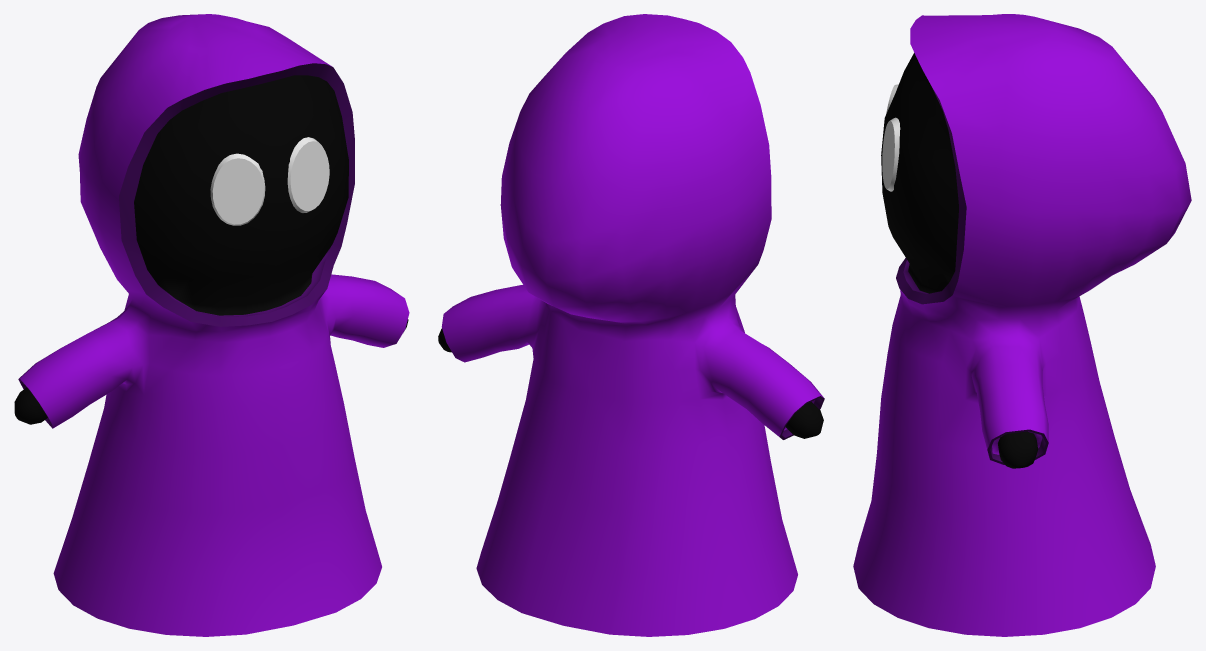
File: TyroV7.FBX
The picture shows the model from 3 angles, left to right: view 1: azimuth 30°, elevation 25°; view 2: azimuth 150°, elevation 25°; view 3: azimuth 270°, elevation 25°; orthographic projection. The views are drawn at different scales.
Parts seen in each view (by area): view 1: Tyro, RightEye, LeftEye; view 2: Tyro; view 3: Tyro, LeftEye.
Part boxes in pixels (bbox=[...]): Tyro: bbox=[14, 14, 409, 636]; RightEye: bbox=[210, 153, 265, 225]; LeftEye: bbox=[287, 137, 329, 212]; Tyro: bbox=[438, 14, 824, 636]; Tyro: bbox=[853, 14, 1191, 636]; LeftEye: bbox=[882, 117, 900, 191].
Size of the model in its own units: 14.61 by 11.02 by 19.42.
